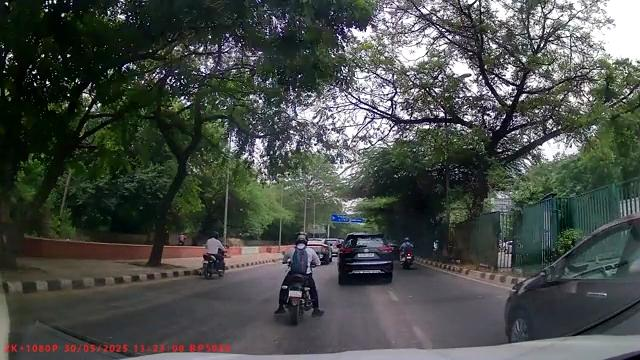motorcycle_with_helmet: (275, 233, 324, 326), (202, 229, 227, 280), (399, 236, 415, 269)
